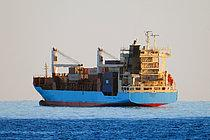Ship: (32, 31, 183, 111)
